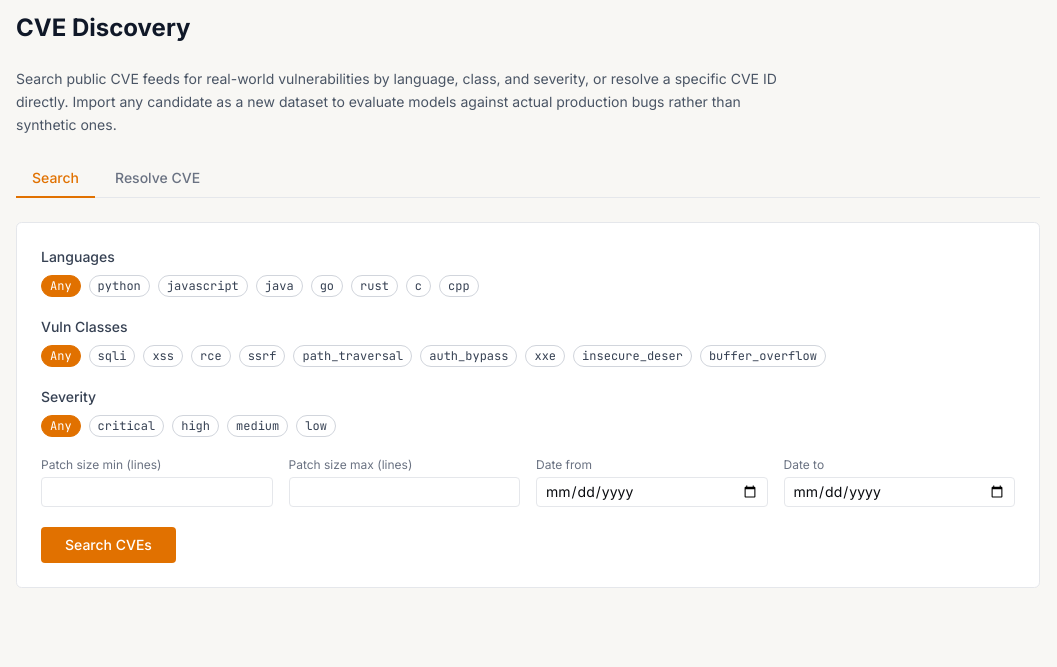
Test: CVEDiscovery — Search tab: issues panel › renders error issues with role=alert
Click the button "Search CVEs". click: (108, 545)
box: [41,527,176,563]
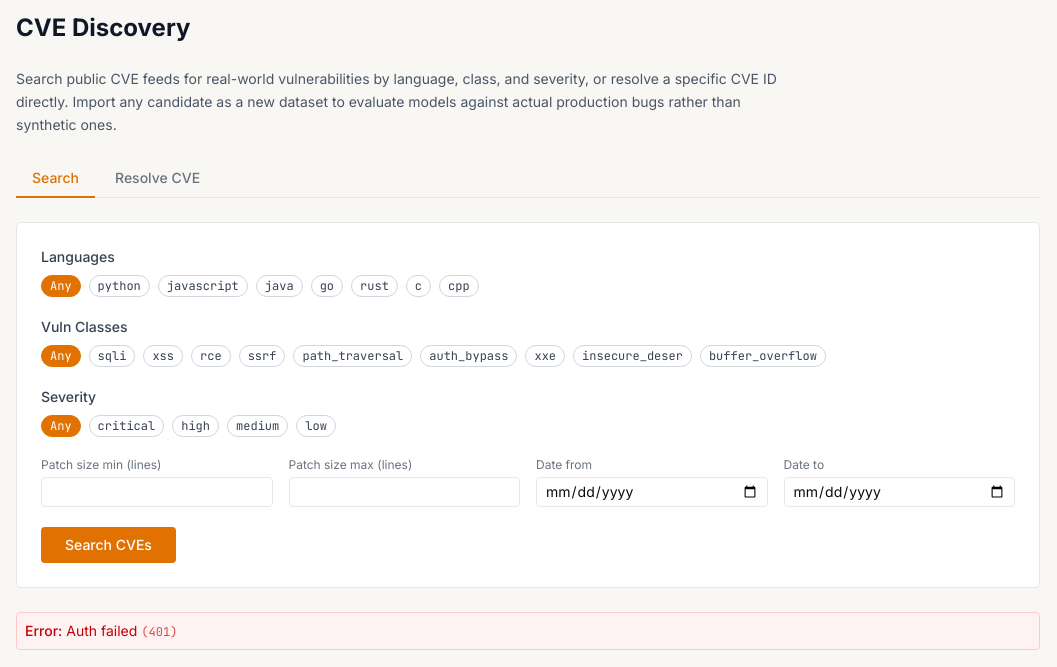
Expected: the text "error: Auth failed(401)" is shown, [16,612,1040,650]
